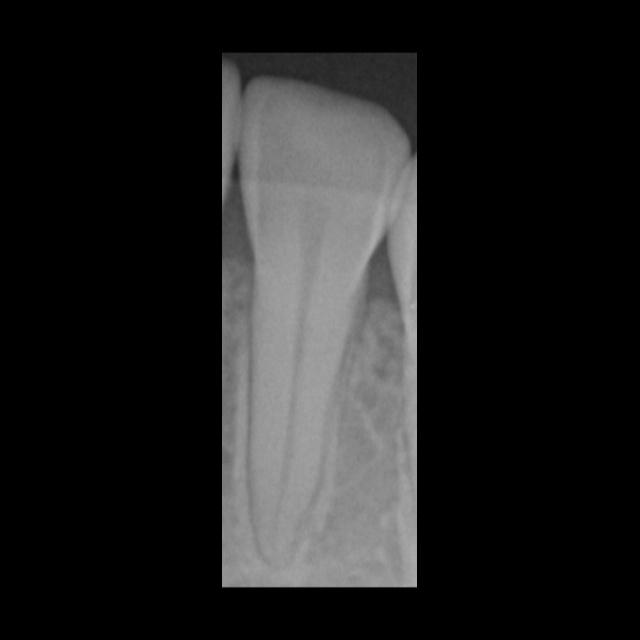tooth: (240, 74, 412, 561)
